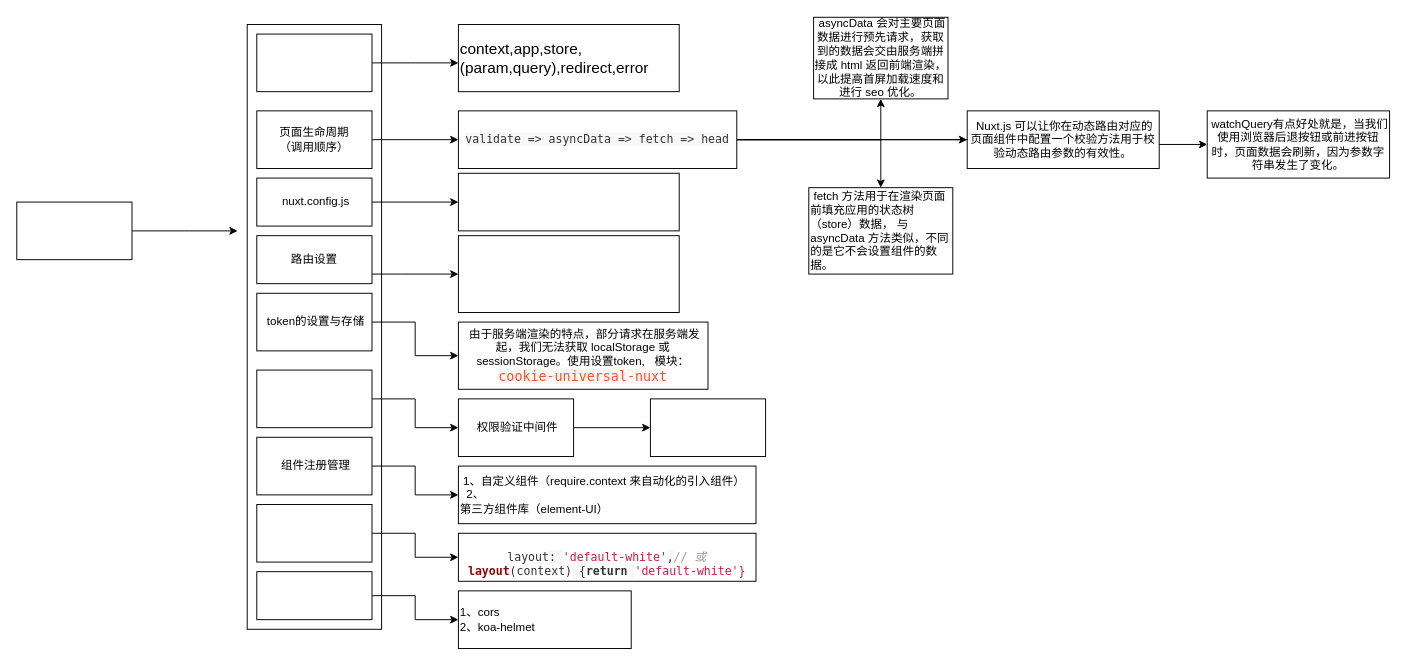
Image size: 1406x665. Some labels were removed from this diagram. The centre of each missing label's shape, as x and y in pixels:
1、系统会自动生成 2、动态路由 3、嵌套路由 4、自定义路由（ extendRoutes ）: pixel 568 273
head为对象是全局设置 head为函数是组件内设置 plugins（可 注入 Vue 实例和context）: pixel 568 201
middleware: pixel 314 398
Nuxt.js: pixel 74 230
代理，缓存，日志，监控，数据处理: pixel 707 427
基础应用配置: pixel 314 62
网站安全性: pixel 314 595
页面布局切换: pixel 314 533
